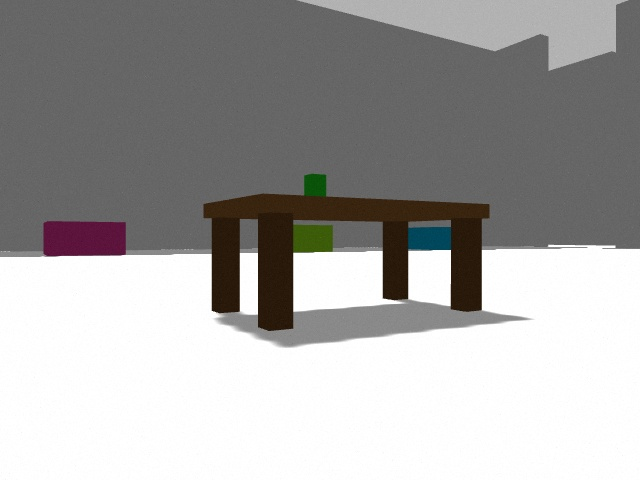blue_drop_zone: (409, 227, 451, 250)
green_cube: (304, 174, 326, 196)
green_drop_zone: (294, 225, 333, 252)
red_drop_zone: (43, 221, 126, 256)
